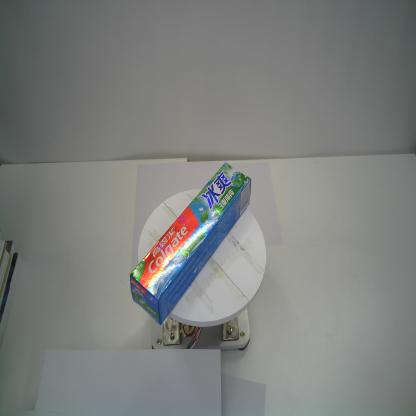Personal Hygiene: (129, 162, 250, 324)
